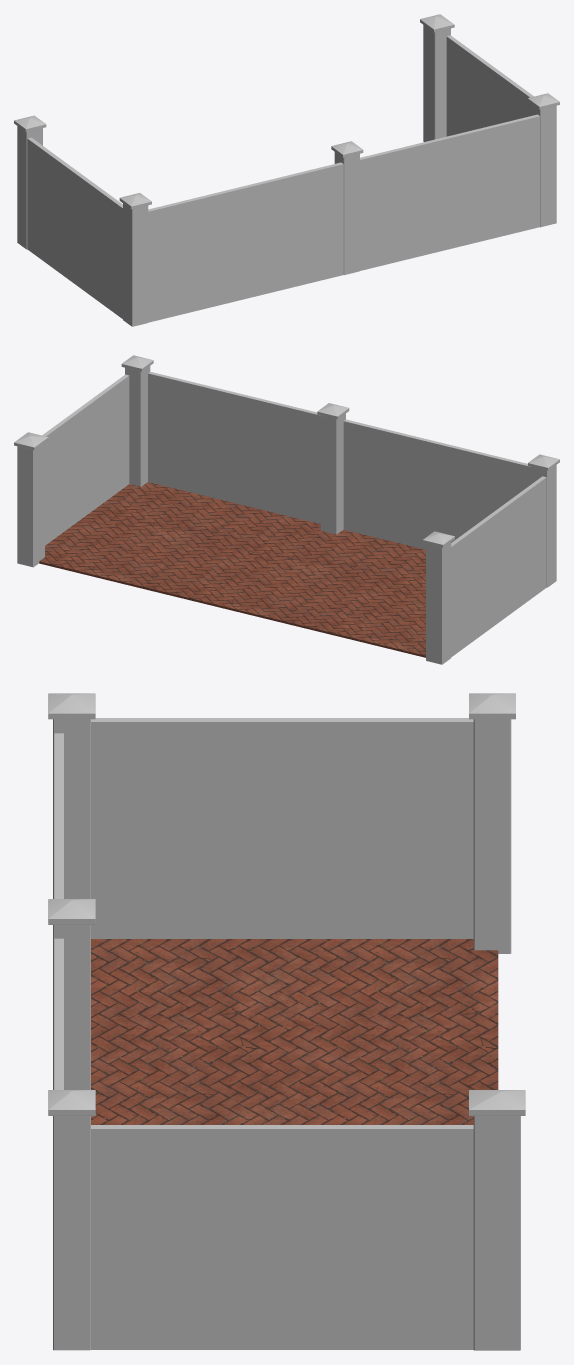
Rendered from Walls exterior.FBX.
3 renders of one model, top to bottom at view 1: azimuth 30°, elevation 25°; view 2: azimuth 150°, elevation 25°; view 3: azimuth 270°, elevation 25°, orthographic. The views are drawn at different scales.
Visible parts, largest first — view 1: Walls exterior; view 2: Walls exterior, exterior floor; view 3: Walls exterior, exterior floor.
Part boxes in pixels (left/top/right/bottom): Walls exterior: left=14, top=14, right=559, bottom=326; Walls exterior: left=14, top=355, right=559, bottom=664; exterior floor: left=39, top=482, right=425, bottom=657; Walls exterior: left=48, top=693, right=525, bottom=1350; exterior floor: left=91, top=939, right=498, bottom=1124.
Bounding box in the file's own units: 785 × 221 × 380.
